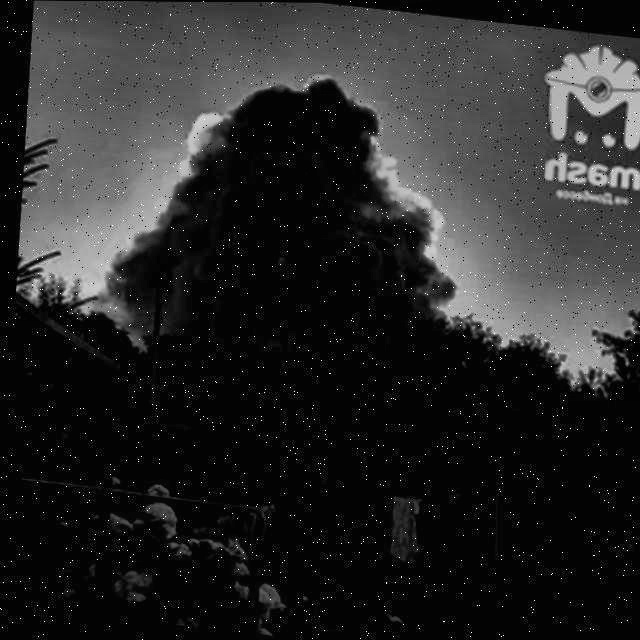Smoke: (94, 55, 473, 377)
